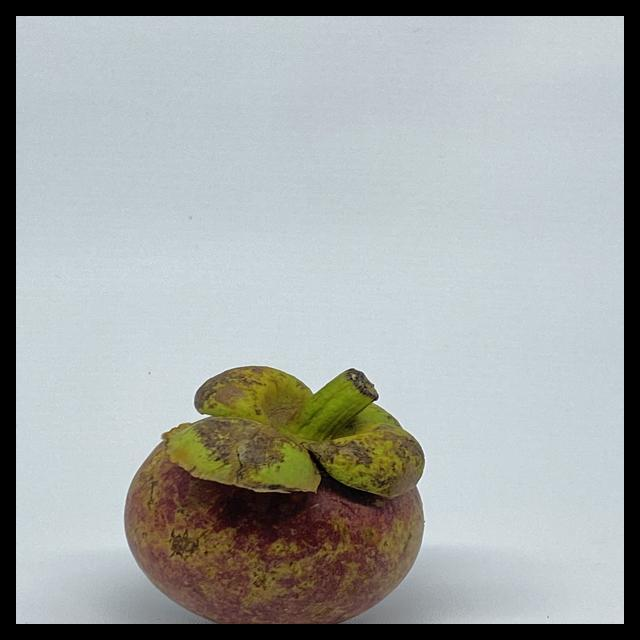mangosteen: (100, 306, 513, 624)
